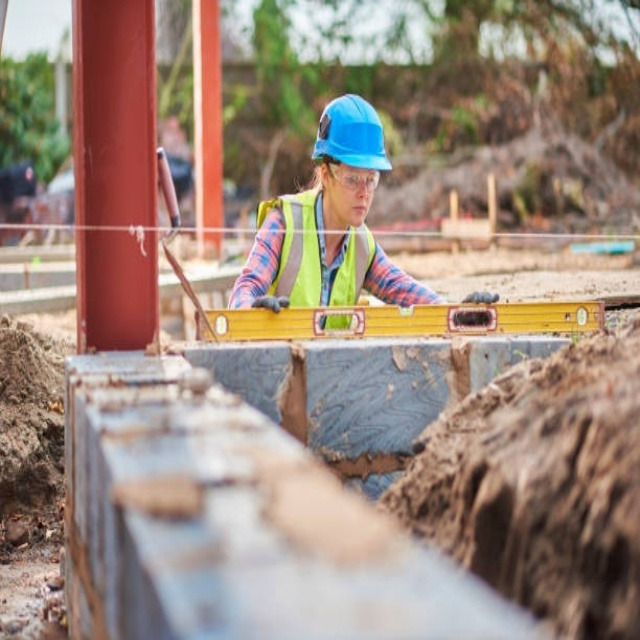Gafas: (330, 165, 380, 195)
Sin_mascara: (346, 199, 369, 223)
